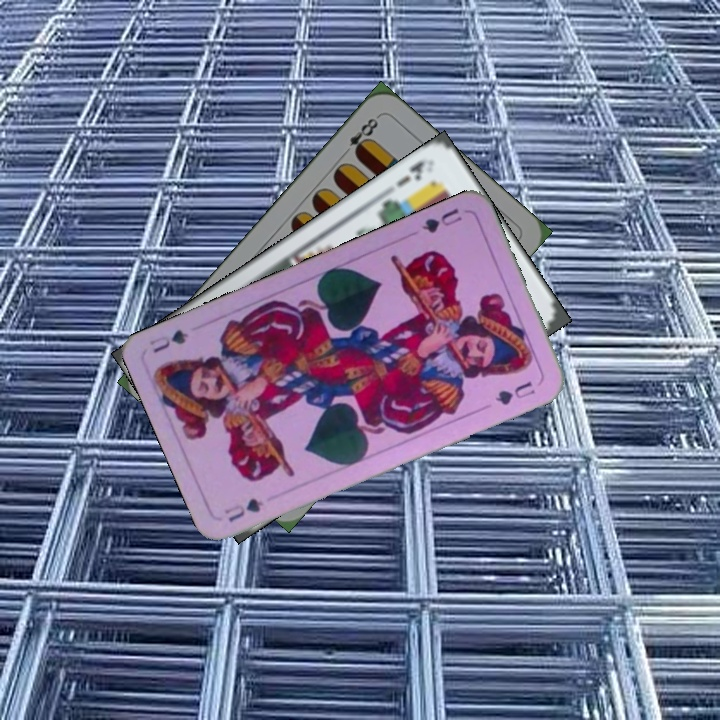E8: (337, 112, 382, 159)
EK: (393, 154, 432, 190)
GU: (418, 204, 465, 236), (220, 493, 266, 525)
